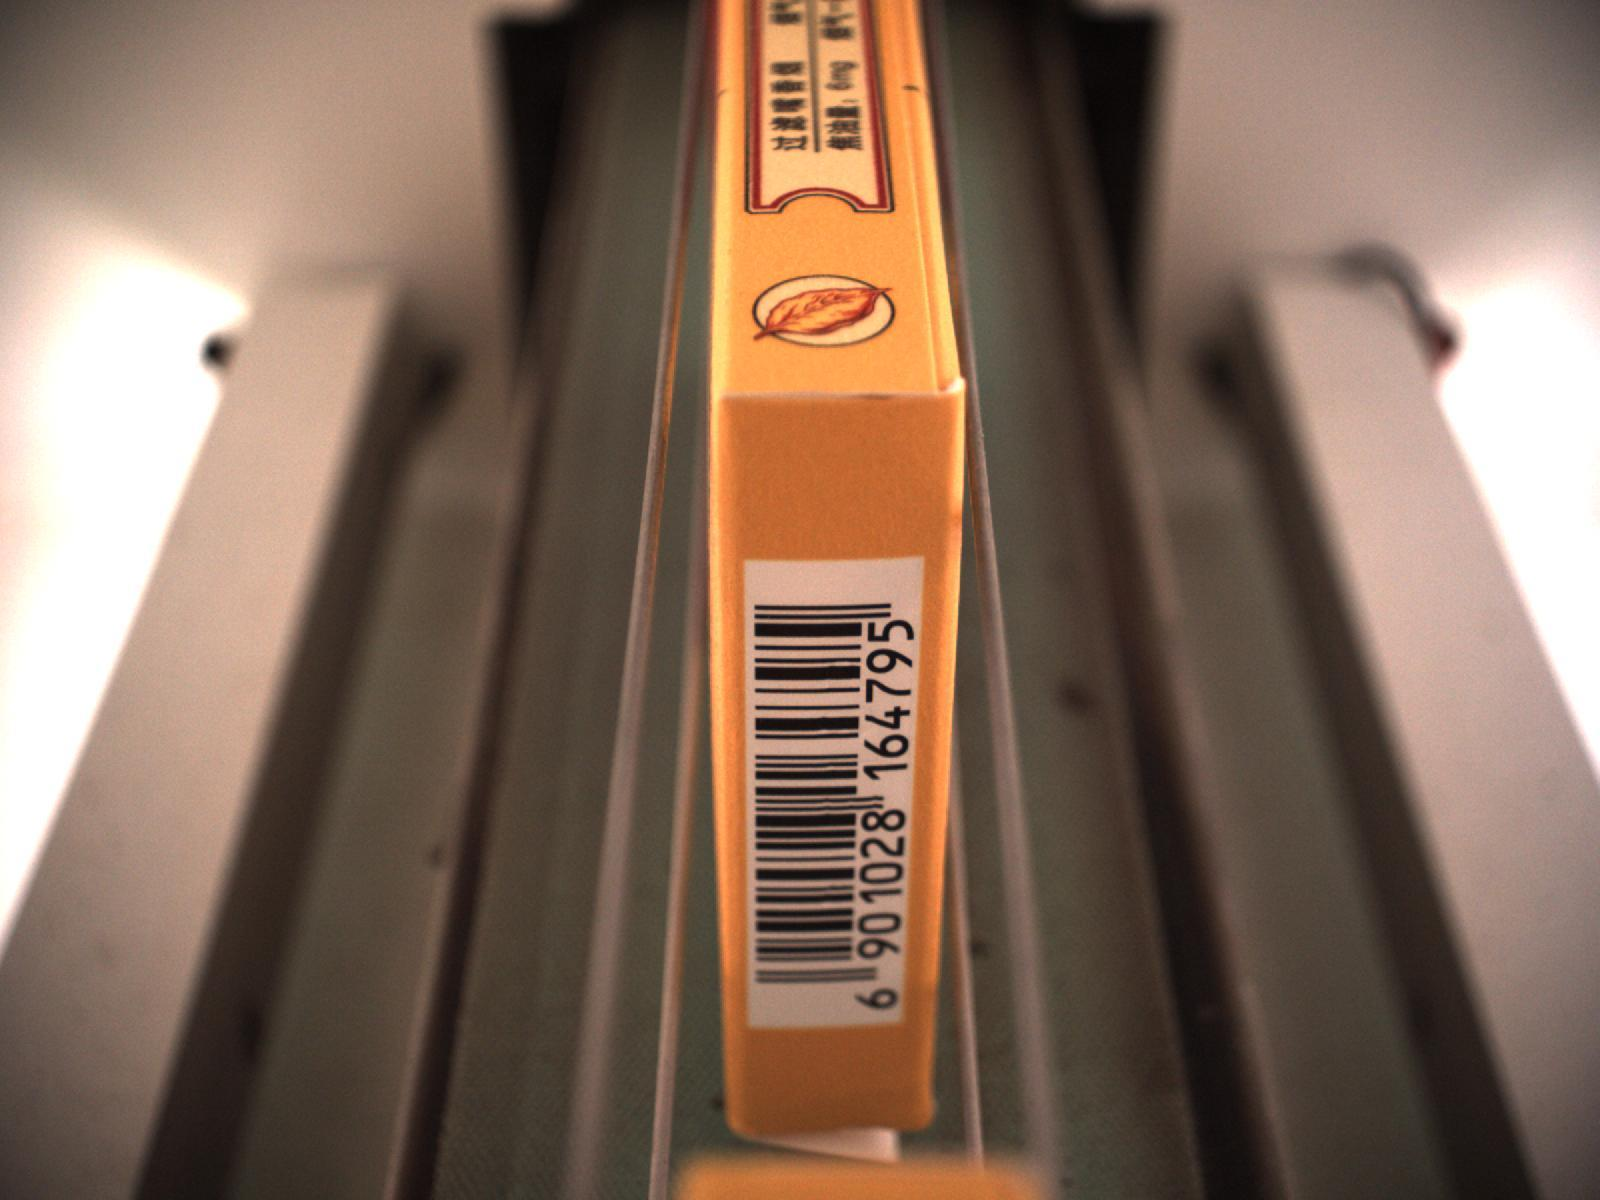skewed_bottom_3: (732, 1114, 929, 1168)
skewed_upper_3: (884, 1, 963, 406)
